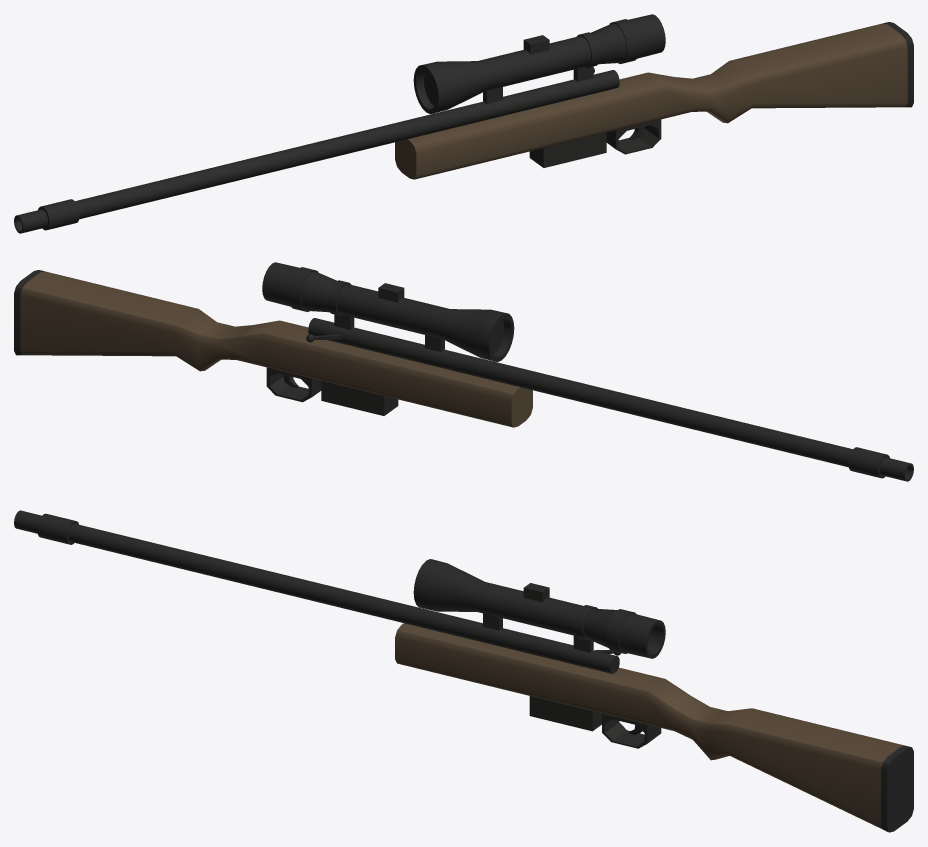
Rendered from rifle.fbx.
3 views of the same model, one above another, from view 1: azimuth 30°, elevation 25°; view 2: azimuth 150°, elevation 25°; view 3: azimuth 330°, elevation 25° (orthographic).
Visible parts, largest first — view 1: grip, barrel, scope, magazine, trigger; view 2: grip, barrel, scope, magazine, trigger; view 3: grip, barrel, scope, magazine, trigger.
Part boxes in pixels (<box>): grip: <box>395,22,913,179</box>; barrel: <box>14,68,619,233</box>; scope: <box>413,14,665,113</box>; magazine: <box>529,133,606,167</box>; trigger: <box>606,119,661,154</box>; grip: <box>14,270,532,427</box>; barrel: <box>306,318,913,481</box>; scope: <box>262,262,514,361</box>; magazine: <box>321,381,398,415</box>; trigger: <box>266,367,321,402</box>; grip: <box>395,623,913,832</box>; barrel: <box>14,510,621,673</box>; scope: <box>413,559,665,658</box>; magazine: <box>529,696,601,731</box>; trigger: <box>602,713,661,748</box>.
Bounding box in the file's own units: 15.55 × 2.53 × 0.8788.
